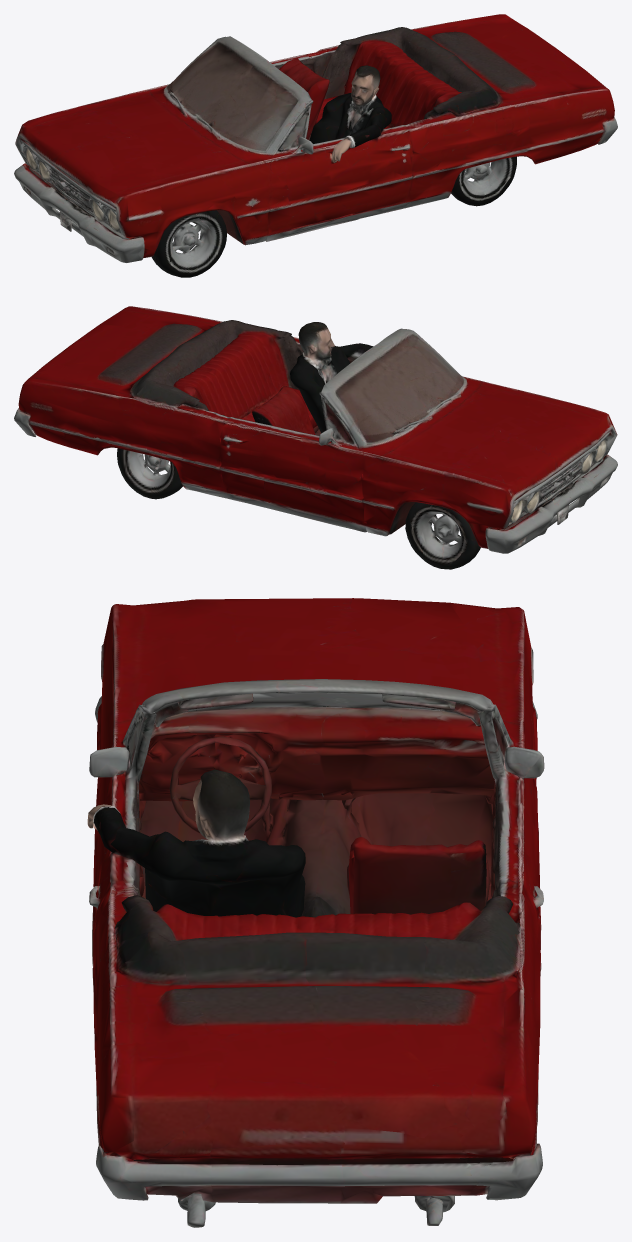
Rendered from george_car.glb.
The picture shows the model from 3 angles, top to bottom: view 1: azimuth 30°, elevation 25°; view 2: azimuth 150°, elevation 25°; view 3: azimuth 270°, elevation 25°; orthographic projection. The views are drawn at different scales.
Parts seen in each view (by area): view 1: mesh_node; view 2: mesh_node; view 3: mesh_node.
Part boxes in pixels (left/top/right/bottom): mesh_node: left=14, top=14, right=617, bottom=277; mesh_node: left=14, top=306, right=617, bottom=569; mesh_node: left=87, top=598, right=544, bottom=1227.
Size of the model in its own units: 1.9 by 0.5431 by 0.7428.
Materials: 1 (1 with a texture image).
